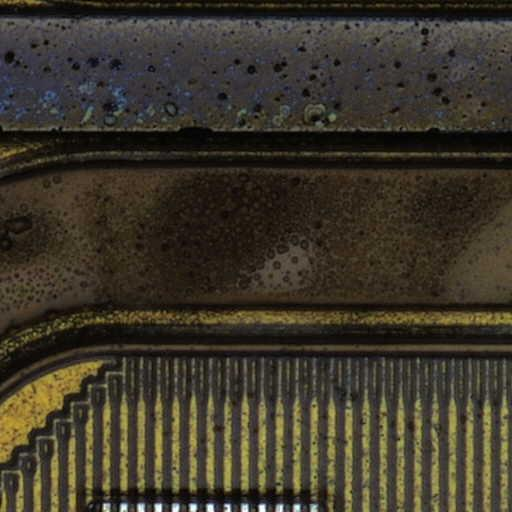SEZ BURNT: (1, 1, 512, 408)
